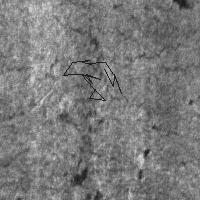crazing: (1, 63, 108, 124), (90, 23, 198, 74), (63, 60, 121, 100)
